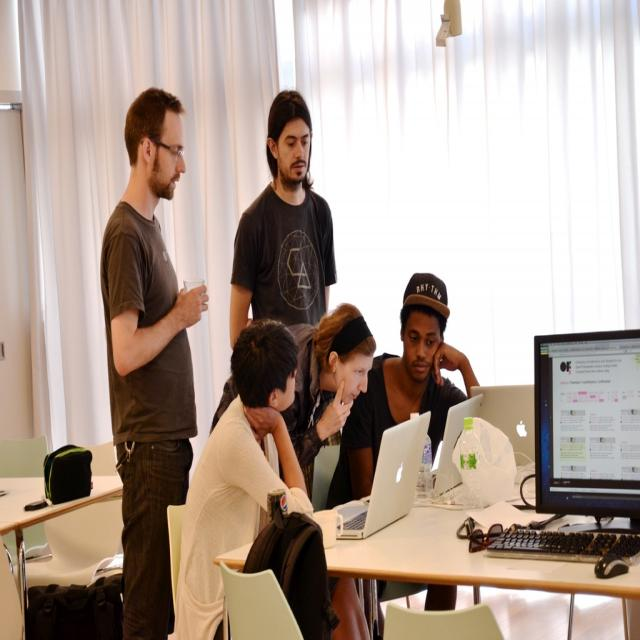chair: (213, 556, 304, 638), (383, 603, 509, 639), (311, 446, 340, 512)
desk: (302, 428, 632, 635)
keyboard: (483, 524, 639, 565)
laptop: (332, 412, 430, 540), (412, 392, 482, 497), (471, 384, 535, 468)
mouse: (594, 556, 632, 579)
person: (100, 88, 210, 635), (171, 319, 315, 635), (226, 90, 338, 432), (328, 272, 482, 505), (285, 302, 376, 504)
tv: (533, 330, 639, 521)
